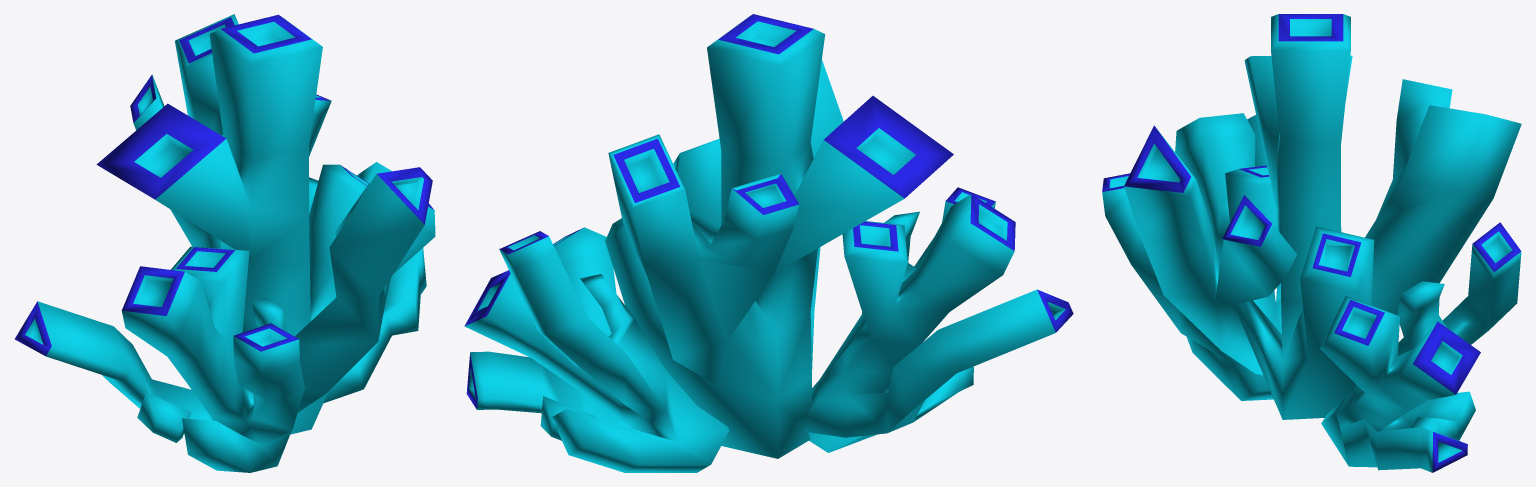
Rendered from coral2_blue.glb.
The picture shows the model from 3 angles, left to right: view 1: azimuth 30°, elevation 25°; view 2: azimuth 150°, elevation 25°; view 3: azimuth 270°, elevation 25°; orthographic projection. The views are drawn at different scales.
Parts seen in each view (by area): view 1: Cube; view 2: Cube; view 3: Cube.
Boxes of the visible parts, x1=… form: Cube: x1=15, y1=14, x2=435, y2=472; Cube: x1=464, y1=14, x2=1073, y2=472; Cube: x1=1102, y1=14, x2=1521, y2=472.
Bounding box in the file's own units: 18.01 × 14.6 × 13.91.
